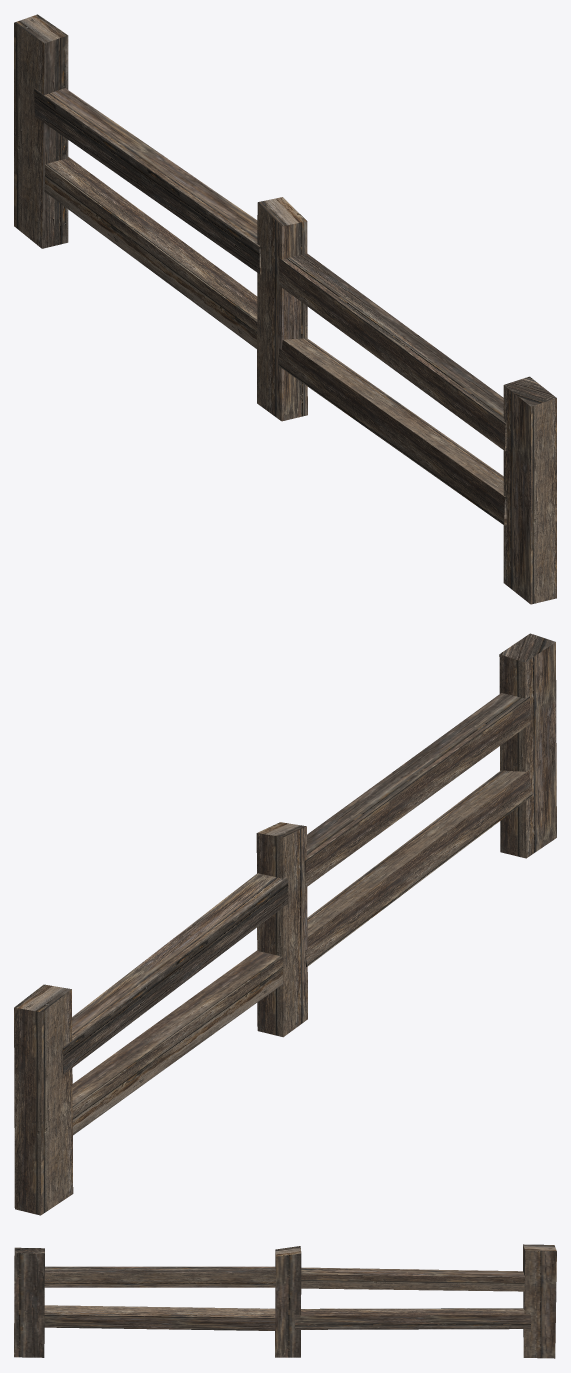
Rendered from fence-wood.glb.
The picture shows the model from 3 angles, top to bottom: view 1: azimuth 30°, elevation 25°; view 2: azimuth 150°, elevation 25°; view 3: azimuth 270°, elevation 25°; orthographic projection. The views are drawn at different scales.
Parts seen in each view (by area): view 1: Object_2; view 2: Object_2; view 3: Object_2.
Boxes of the visible parts, <box> form: Object_2: <box>14,14,556,604</box>; Object_2: <box>14,633,556,1215</box>; Object_2: <box>14,1244,556,1358</box>.
Bounding box in the file's own units: 0.1801 × 1.2 × 5.5.
Materials: 1 (1 with a texture image).
